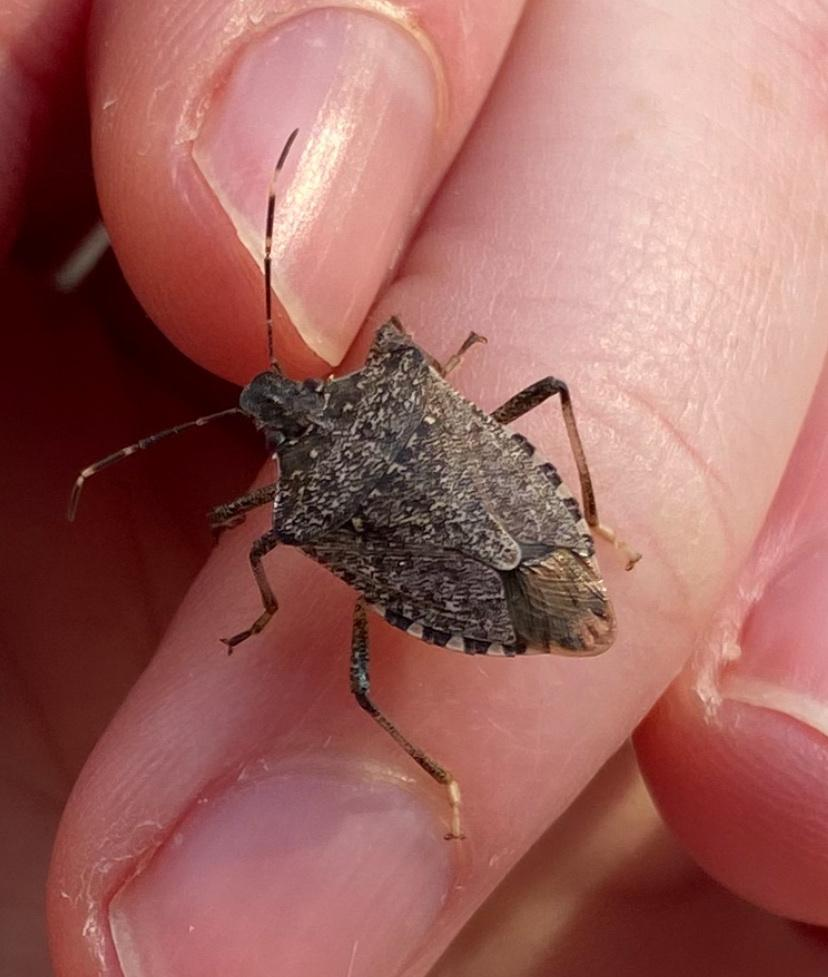stink_bugs: (0, 96, 792, 877)
